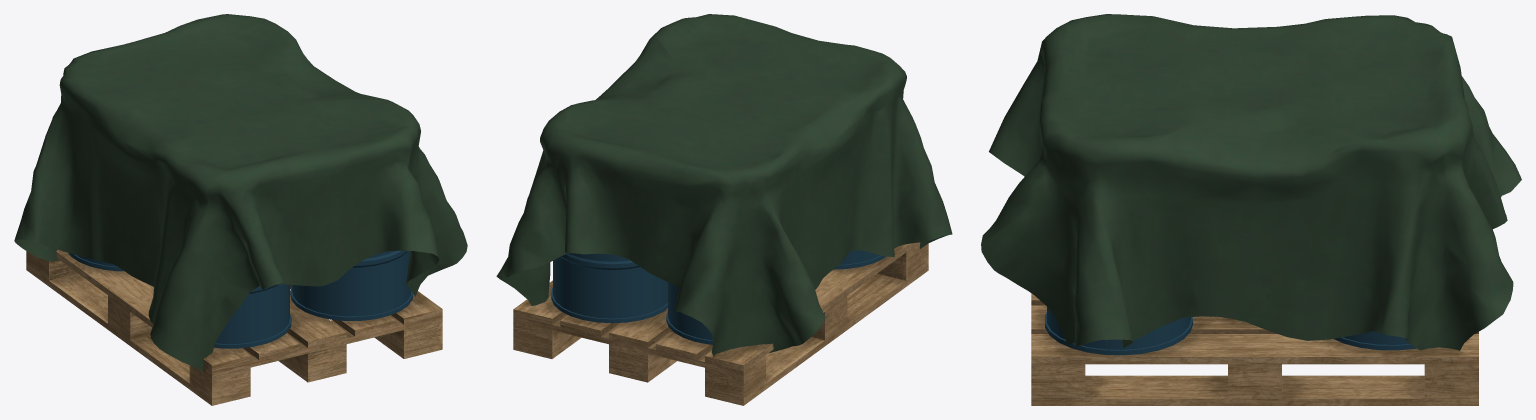
Rendered from barrels-pallet.glb.
The picture shows the model from 3 angles, left to right: view 1: azimuth 30°, elevation 25°; view 2: azimuth 150°, elevation 25°; view 3: azimuth 270°, elevation 25°; orthographic projection. The views are drawn at different scales.
Parts seen in each view (by area): view 1: Trapka_Trapka_0, Poddon.001_Wood_0, Metal Boch.009_Metal boch_0; view 2: Trapka_Trapka_0, Poddon.001_Wood_0, Metal Boch.009_Metal boch_0; view 3: Trapka_Trapka_0, Poddon.001_Wood_0, Metal Boch.009_Metal boch_0.
Boxes of the visible parts, x1=… form: Trapka_Trapka_0: x1=14, y1=14, x2=467, y2=371; Poddon.001_Wood_0: x1=26, y1=249, x2=442, y2=405; Metal Boch.009_Metal boch_0: x1=68, y1=250, x2=413, y2=348; Trapka_Trapka_0: x1=496, y1=14, x2=952, y2=355; Poddon.001_Wood_0: x1=513, y1=242, x2=928, y2=405; Metal Boch.009_Metal boch_0: x1=551, y1=250, x2=885, y2=344; Trapka_Trapka_0: x1=981, y1=14, x2=1521, y2=350; Poddon.001_Wood_0: x1=1031, y1=293, x2=1478, y2=405; Metal Boch.009_Metal boch_0: x1=1045, y1=307, x2=1416, y2=355.
Size of the model in its own units: 1.92 by 1.23 by 2.29.
3 materials, 2 textured.
